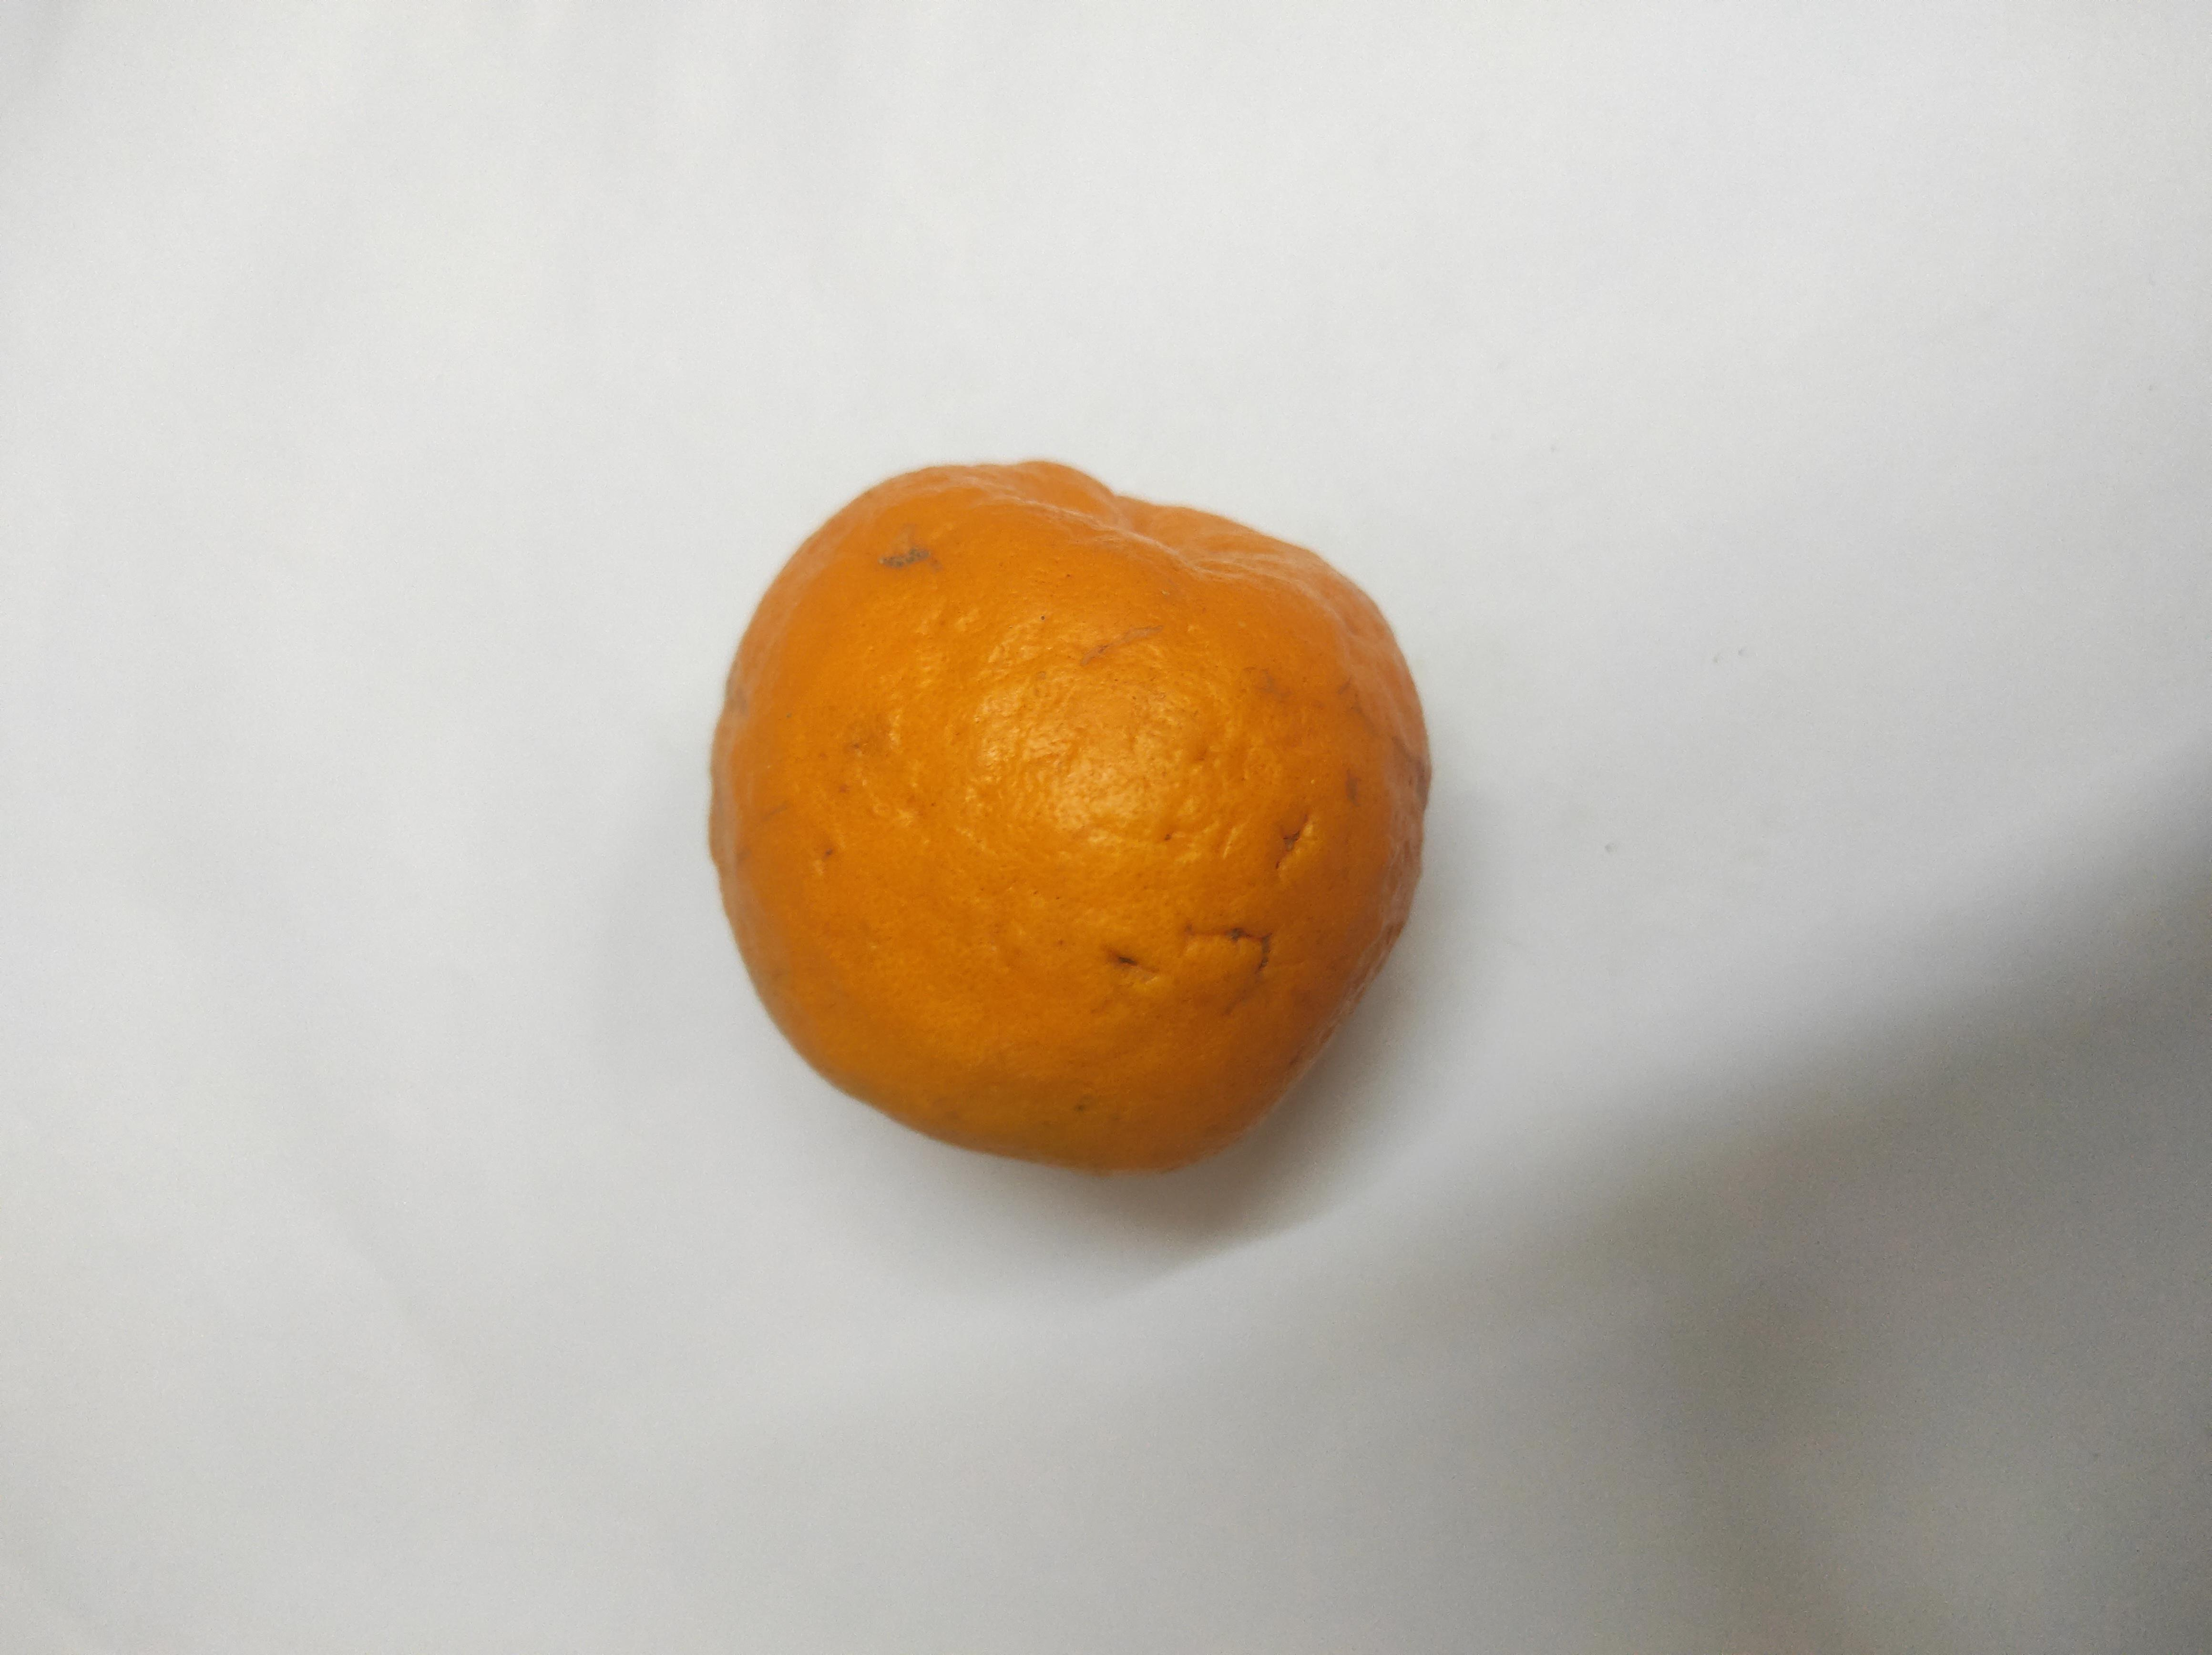Ripe: (656, 528, 1605, 1071)
